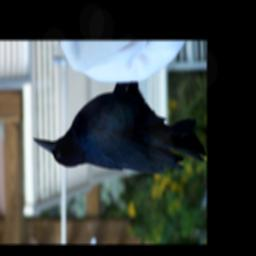Crow: (32, 83, 205, 175)
